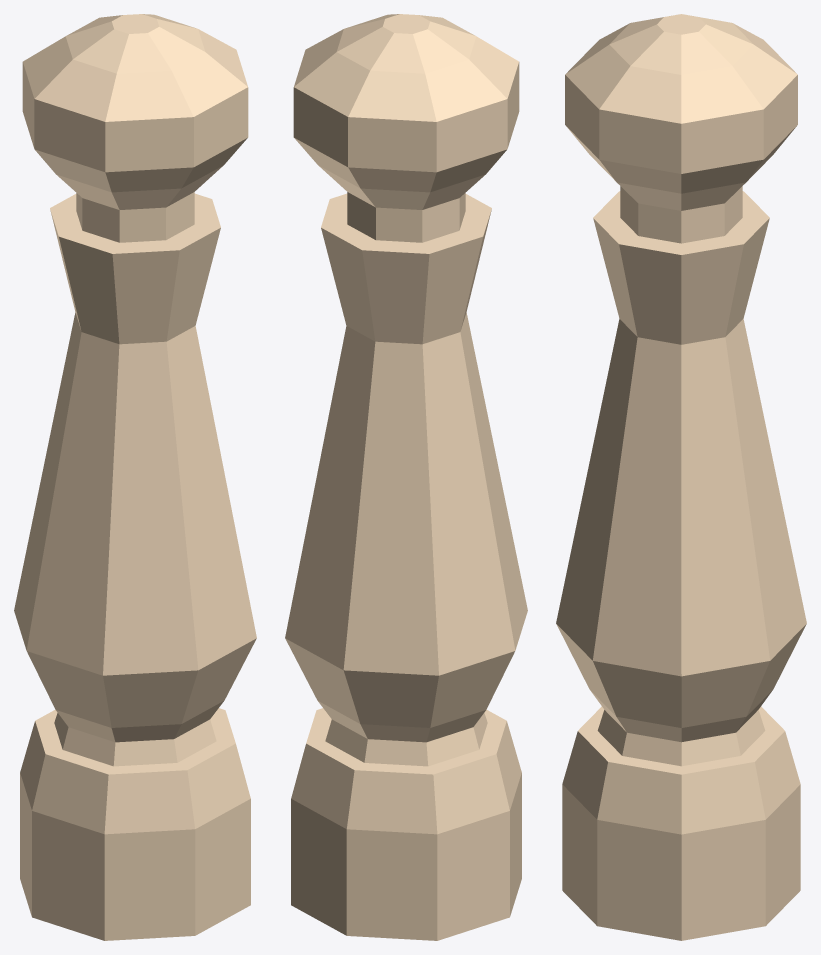
File: pepperMill.glb
3 views of the same model, side by side, from view 1: azimuth 30°, elevation 25°; view 2: azimuth 150°, elevation 25°; view 3: azimuth 270°, elevation 25° (orthographic).
Parts seen in each view (by area): view 1: pepperMill; view 2: pepperMill; view 3: pepperMill.
Part boxes in pixels (bbox=[...]): pepperMill: bbox=[14, 14, 256, 940]; pepperMill: bbox=[285, 14, 527, 940]; pepperMill: bbox=[556, 14, 806, 940].
Size of the model in its own units: 0.141 by 0.5372 by 0.141.
